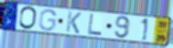1: (139, 18, 150, 42)
9: (114, 15, 132, 40)
G: (38, 8, 58, 32)
K: (65, 10, 83, 35)
L: (87, 13, 103, 37)
O: (18, 5, 38, 31)
